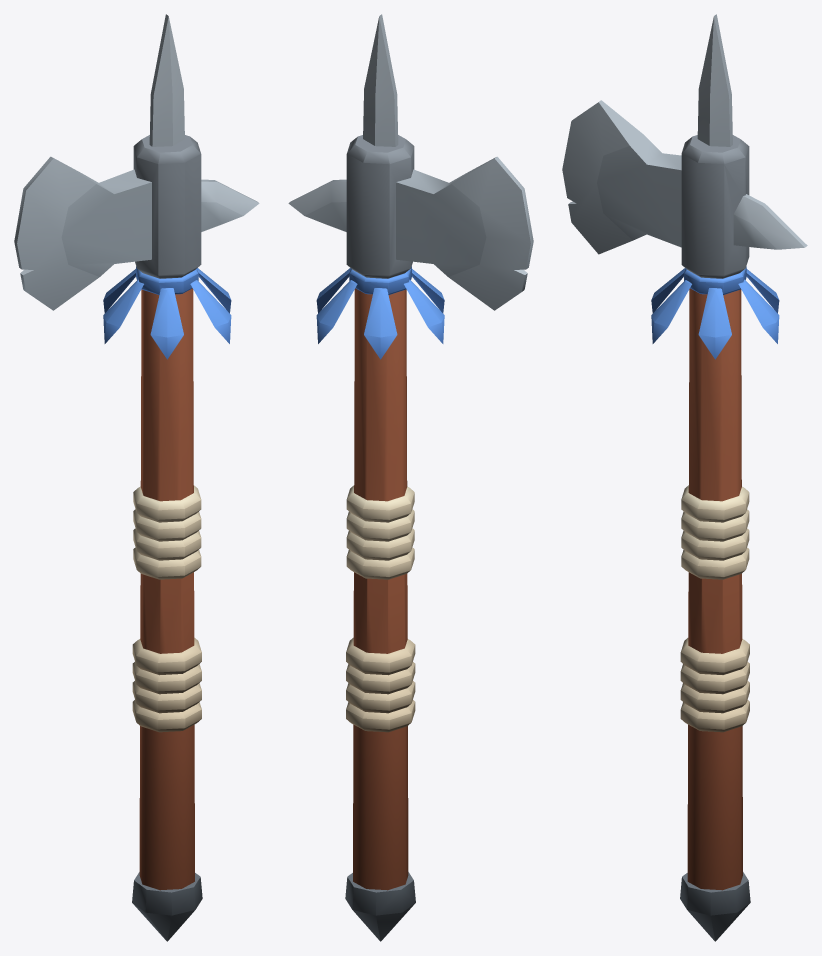
The model's file is halberd_steel.glb.
3 renders of one model, left to right at view 1: azimuth 30°, elevation 25°; view 2: azimuth 150°, elevation 25°; view 3: azimuth 330°, elevation 25°, orthographic.
Parts seen in each view (by area): view 1: Item; view 2: Item; view 3: Item.
Part boxes in pixels (<box>): Item: <box>14,14,259,941</box>; Item: <box>288,14,533,941</box>; Item: <box>562,14,807,941</box>.
Size of the model in its own units: 0.8 by 2.92 by 0.3656.
2 materials, 2 textured.
